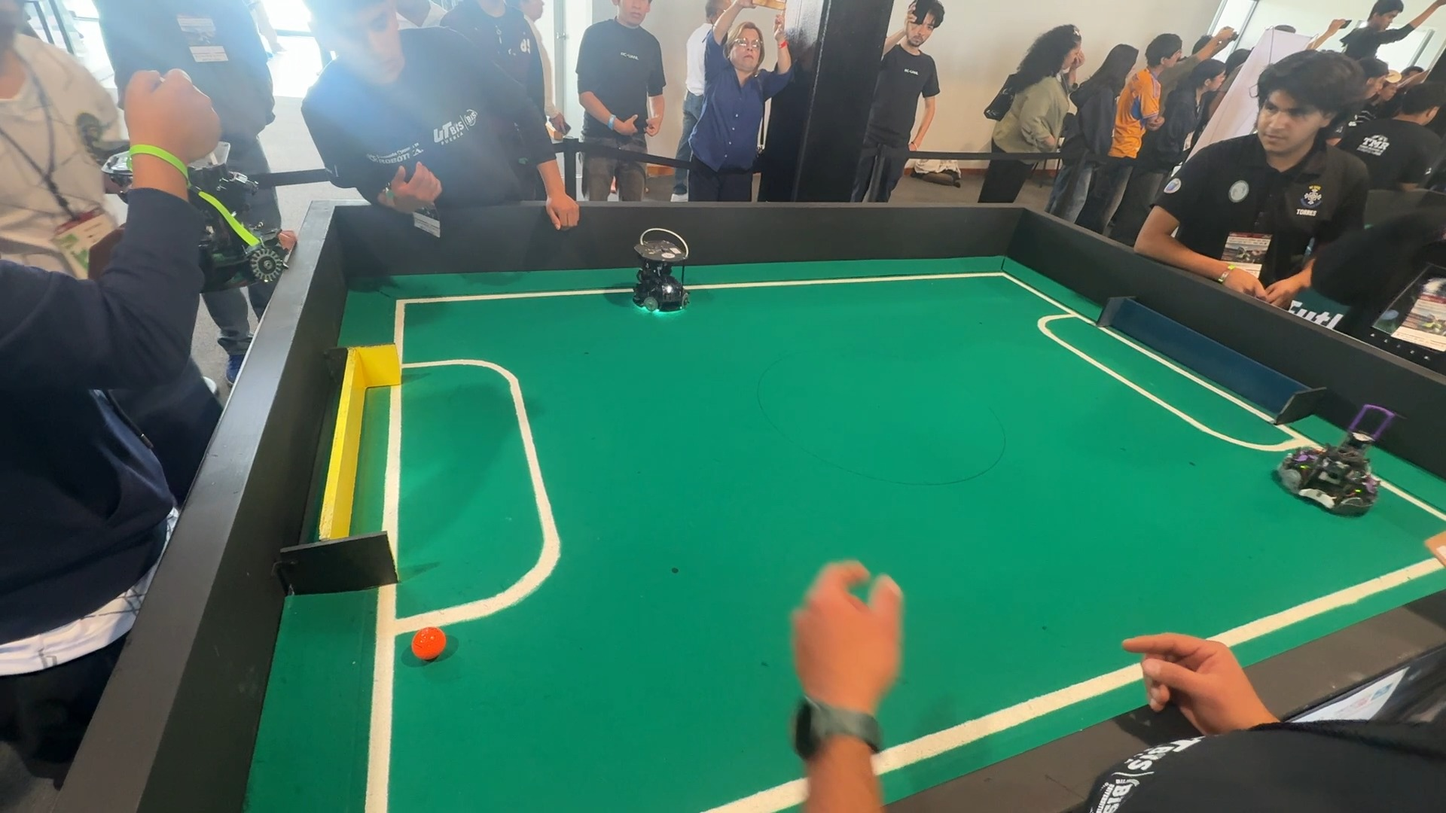Robot: (1265, 401, 1402, 525), (619, 228, 702, 328)
pelota: (404, 623, 456, 669)
